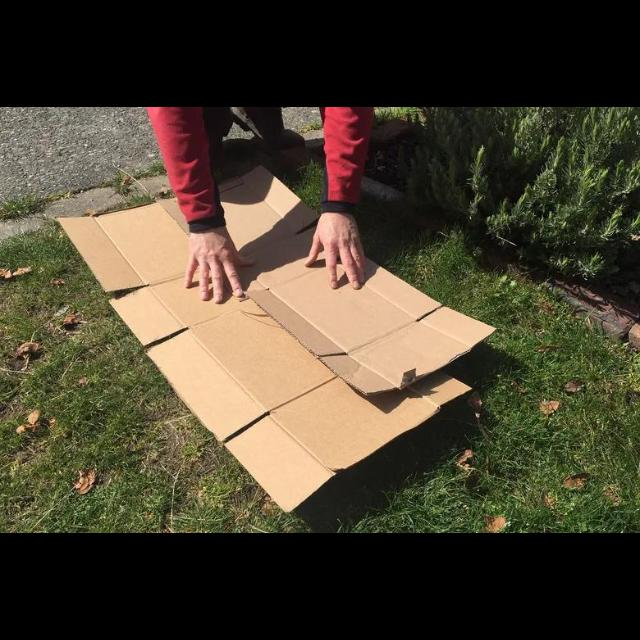papelão: (57, 164, 497, 516)
